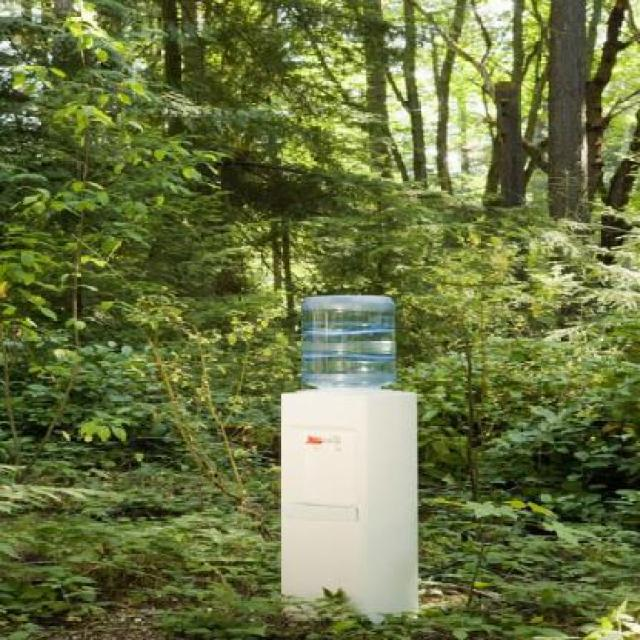cooler: (277, 292, 425, 618)
